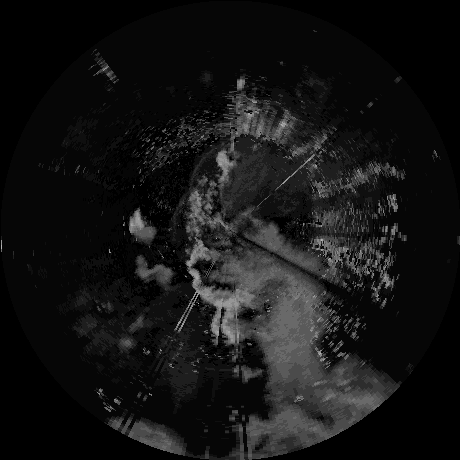frontgust: (188, 140, 222, 180), (172, 193, 187, 229)
